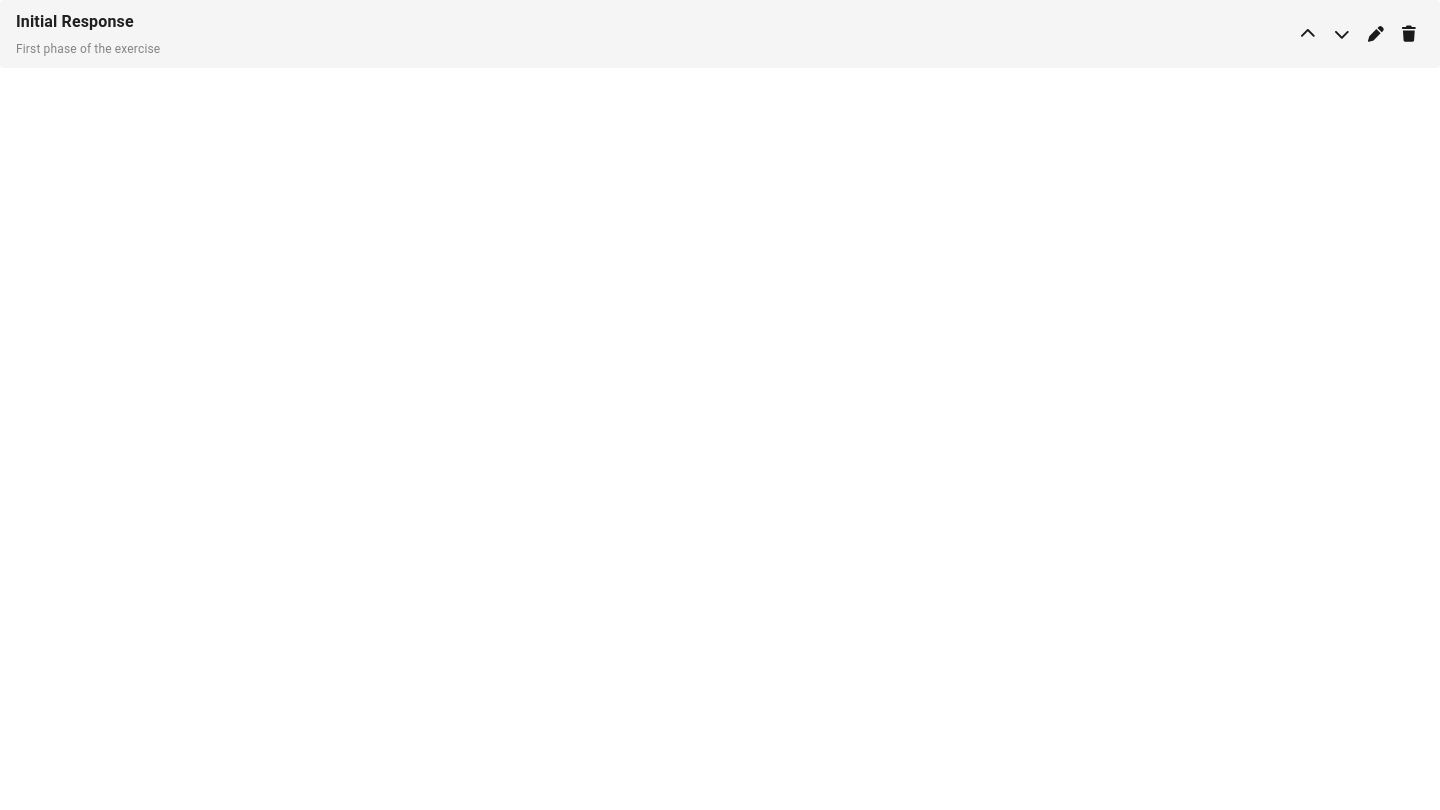
PhaseHeader › closes dialog when cancel is clicked
# Open dialog
Click the 4th button at (1409, 34), box [1394,21,1424,47]
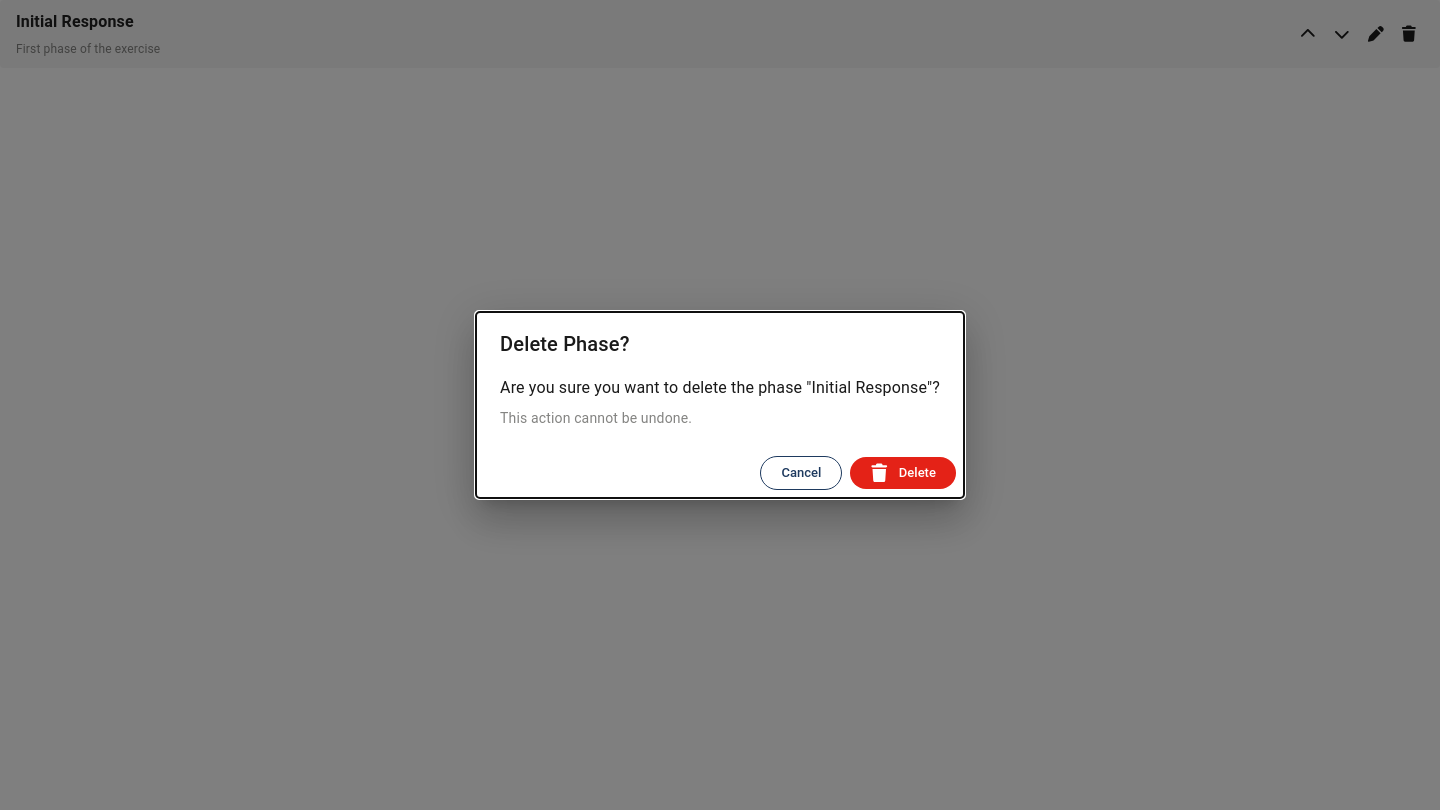
Check: the heading "Delete Phase?" is shown, box [500,332,630,356]
# Click cancel
Click the button "Cancel" at (801, 473), box [760,456,842,490]
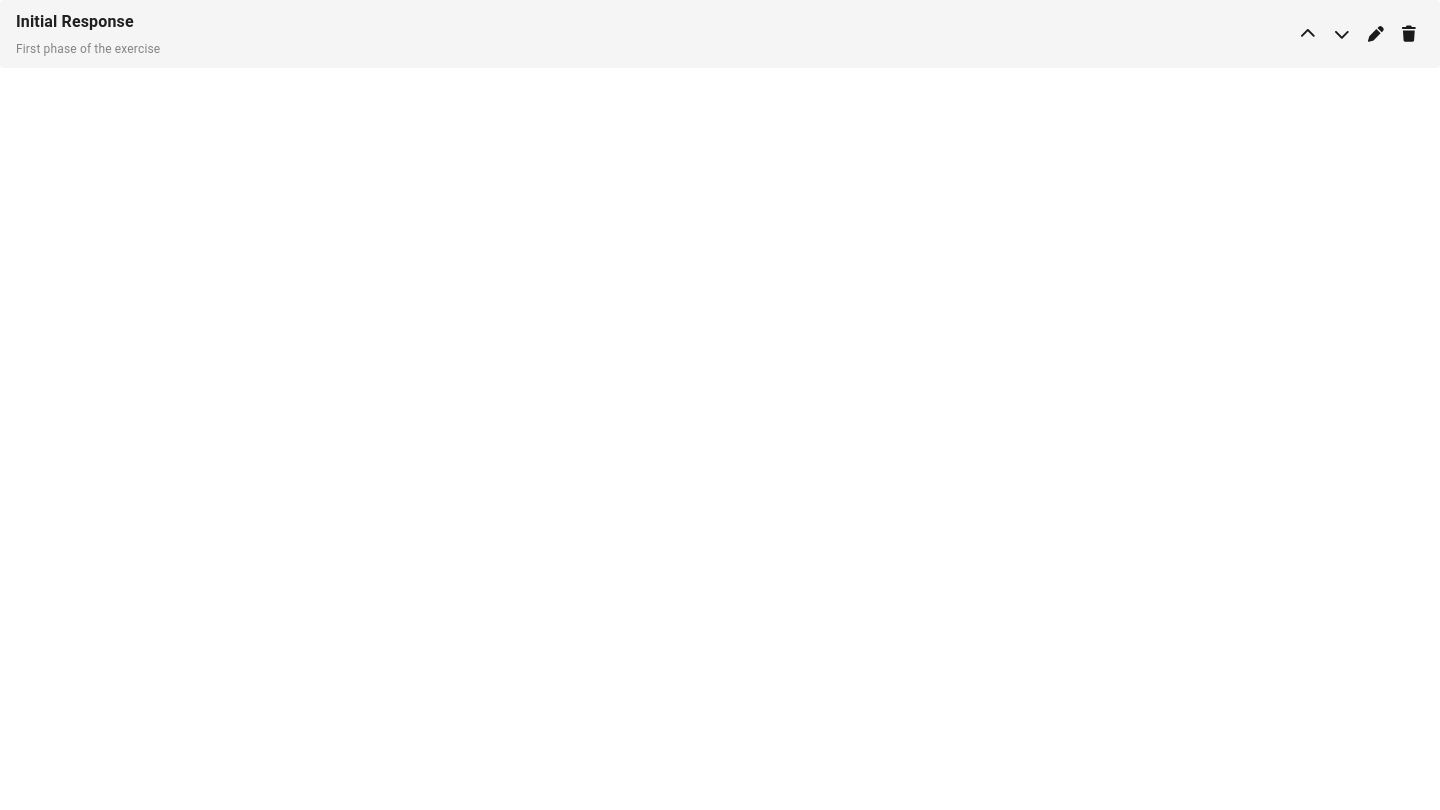
Check: the heading "Delete Phase?" is gone
